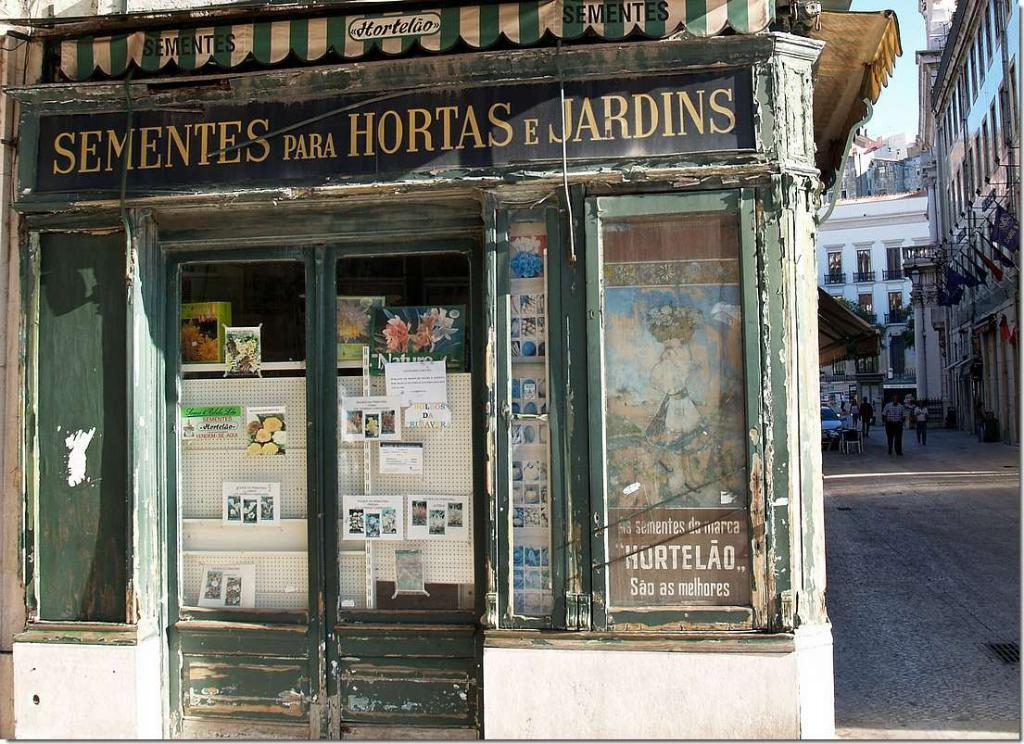door: (168, 260, 318, 744), (330, 249, 480, 722)
